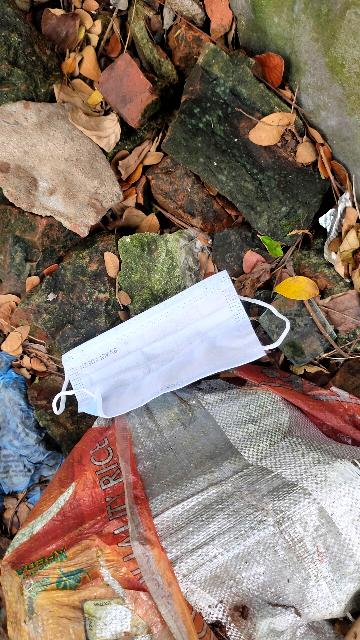mask: (44, 257, 297, 414)
